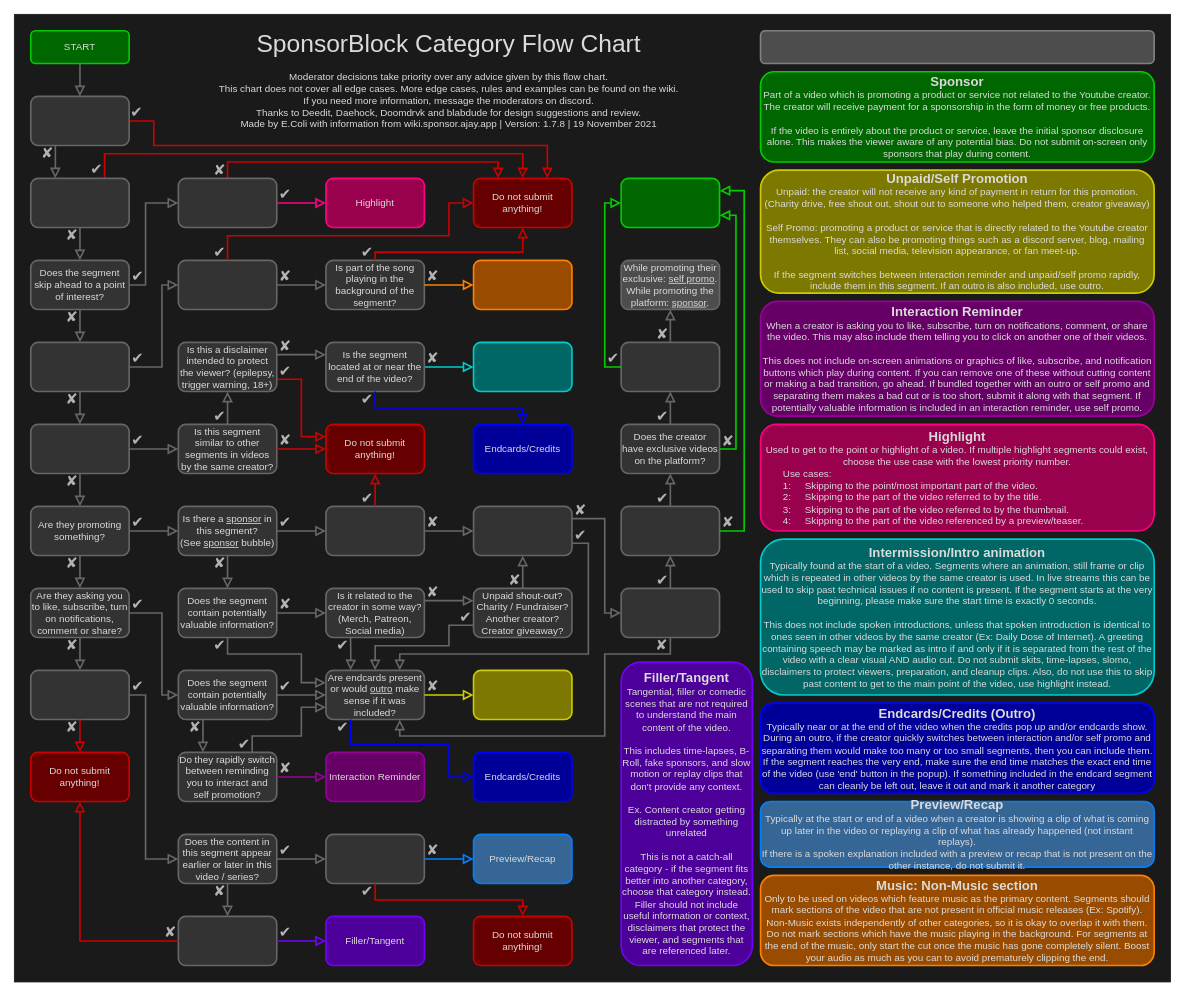
Some shapes in this 1185 by 996 pixel diagram are drawn without their labels. Each missing label, with the centre of its shape:
Content Part of a video which someone could find valuable or want to watch.: point (957, 47)
Do they switch between promoting the platform and their exclusives rapidly?: point (670, 366)
Does the segment meet any of the highlight use cases? (See highlight bubble ): point (227, 202)
Does this segment contain an animation or still frame? (May contain audio): point (80, 448)
Does this segment skip over a tangent or joke? (See tangent bubble): point (227, 940)
Intermission/Intro animation: point (522, 366)
Is it obvious the creator is being paid to promote this?: point (670, 612)
Is it obvious the sponsor is owned by the same company/person?: point (522, 530)
Is music the primary aspect of the video?: point (80, 366)
Is the segment present in the official music? (Spotify version?): point (227, 284)
Is the segment shorter than one second? Is the transition really bad?: point (80, 202)
Is the sponsor Nebula or Curiosity Stream?: point (670, 530)
Is the video better off without skipping the segment?: point (80, 120)
Is the video primarily about the sponsor or could this cause a bias?: point (375, 530)
Is there a spoken summary that is not present in the other appearance?: point (375, 858)
Is there any content in this segment? (See content bubble): point (80, 694)
Music: Non-Music section: point (522, 284)
Sponsor: point (670, 202)
Unpaid/Self Promotion: point (522, 694)
